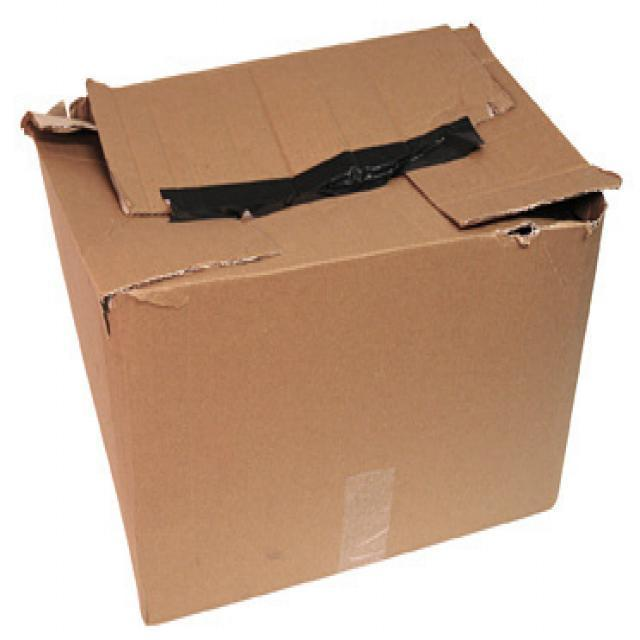hole: (507, 192, 609, 247)
